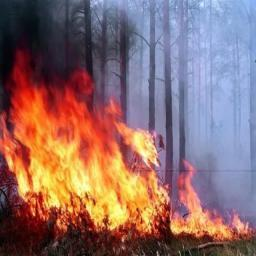Heavy smoke: (98, 0, 255, 227)
Large fire: (2, 56, 255, 241)
